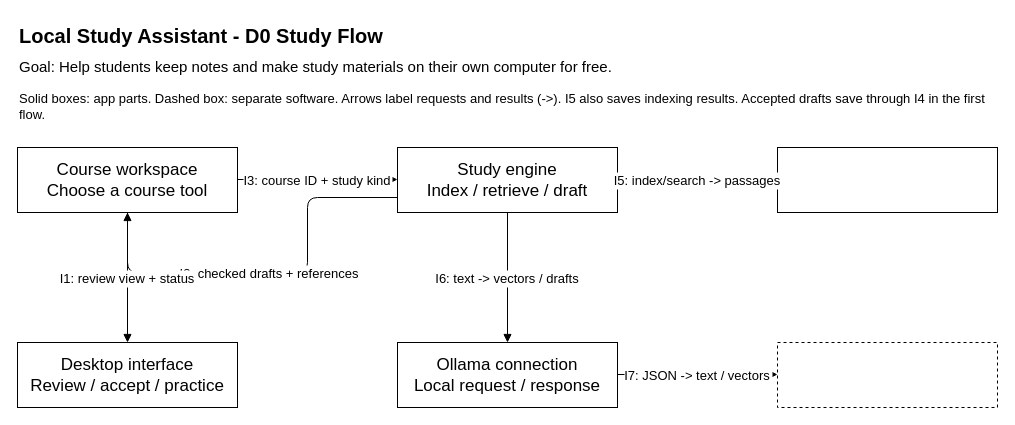
This 1015x425 diagram has some shape labels left out. Here are the shapes that lost their labels. From the top down, the centre of each, then its label:
At point (887, 179): "Local data store Course text + search index".
At point (887, 375): "Ollama + local models Text / search vectors".
